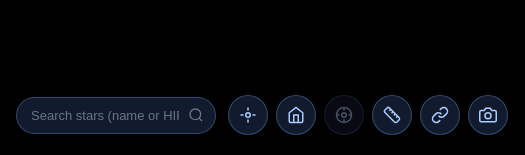
Toolbar Component › Search Functionality › should mark a positionless result as not on the map
Step 1. Type "test" into the field labelled "Search stars (name or HIP/HD/HR)..." → (116, 115), box top-left (16, 96), bottom-right (216, 134)
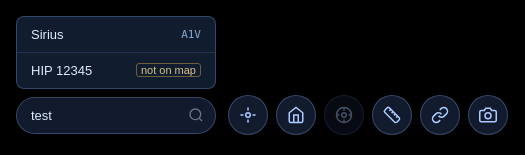
Expected: the option "HIP 12345 not on map" is shown, top-left (17, 52), bottom-right (215, 88)
Expected: the option "Sirius A1V" is shown, top-left (17, 16), bottom-right (215, 52)
Expected: the text "not on map" is shown once, top-left (136, 63), bottom-right (201, 77)
